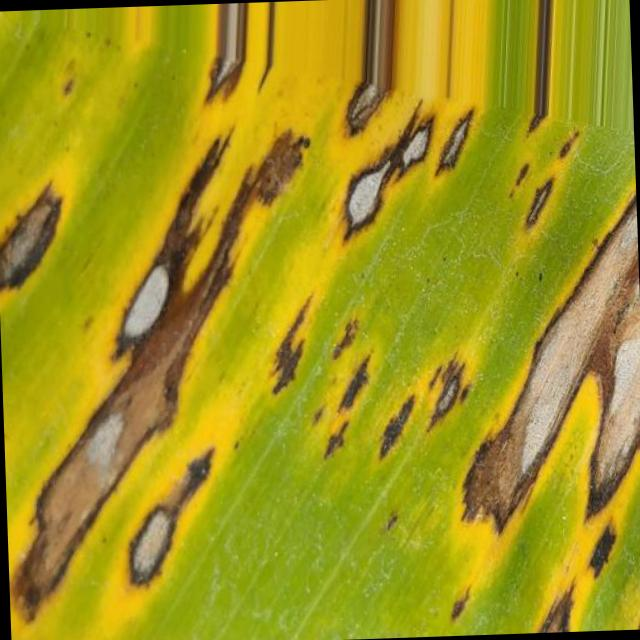Banana_Yellow_Sigatoka: (2, 110, 340, 640), (435, 171, 640, 631), (336, 0, 601, 260), (0, 160, 96, 299), (372, 368, 426, 492)
